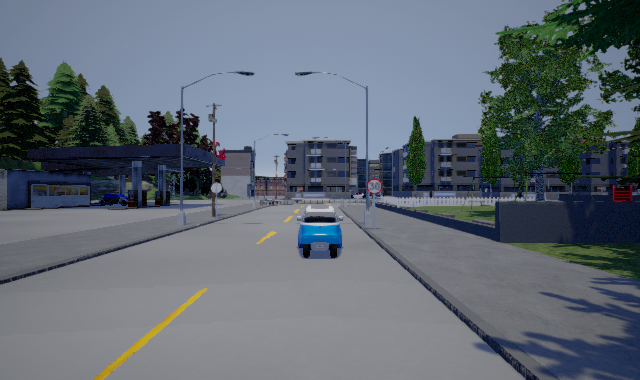traffic_sign: (366, 178, 382, 194)
vehicle: (296, 204, 348, 258)
